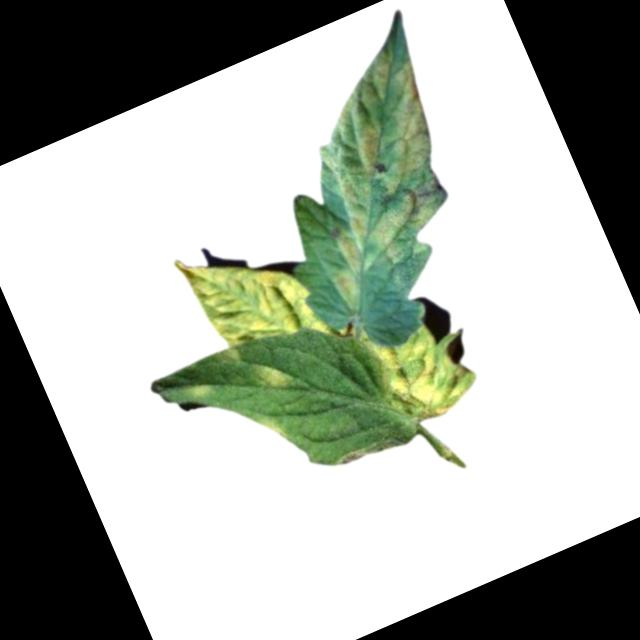Leaf_Mold: (257, 44, 490, 317), (171, 216, 331, 380), (358, 304, 482, 433), (245, 401, 291, 449), (255, 350, 299, 396), (179, 368, 221, 406)
